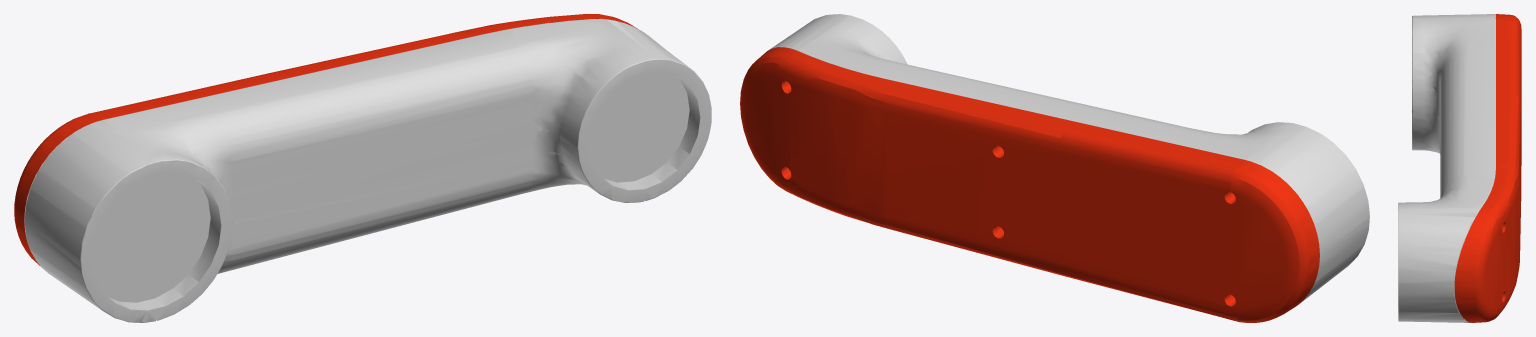
The picture shows the model from 3 angles, left to right: view 1: azimuth 30°, elevation 25°; view 2: azimuth 150°, elevation 25°; view 3: azimuth 270°, elevation 25°; orthographic projection. The views are drawn at different scales.
Visible parts, largest first — view 1: Mesh (×2); view 2: Mesh (×3); view 3: Mesh (×2).
Part boxes in pixels (box(x1,y1,x2,y2)): Mesh (×2): box(14, 14, 711, 322); Mesh (×3): box(740, 14, 1369, 322); Mesh (×2): box(1398, 14, 1521, 322).
Bounding box in the file's own units: 339 × 84.49 × 75.7.
